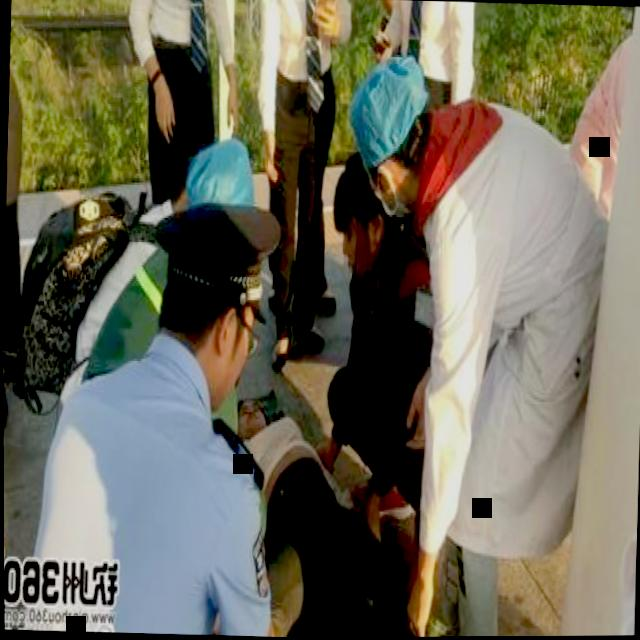Fall-Detected: (234, 328, 432, 639)
